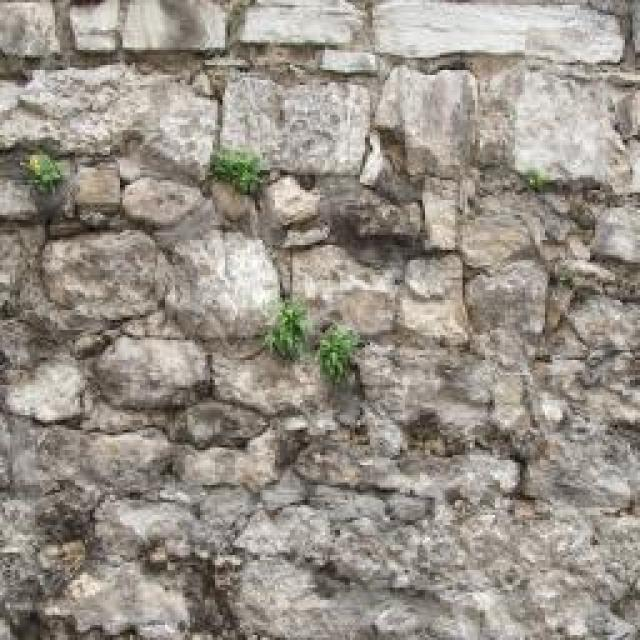crack: (1, 0, 638, 638)
vegetation: (208, 145, 264, 194)
